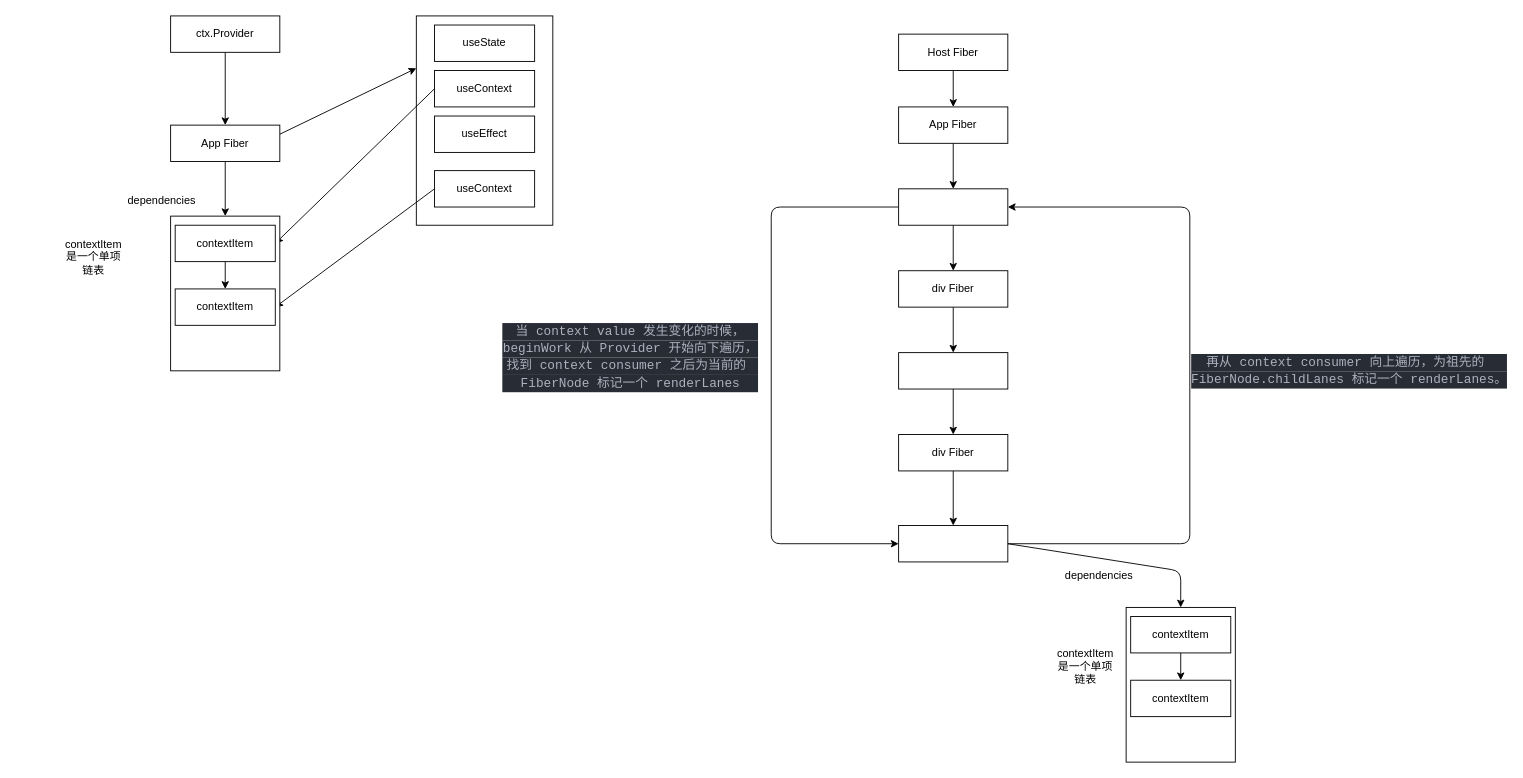
Image size: 1523x778. Some labels were removed from this diagram. Here are the shapes that lost their labels. From the top down, the box of each, then its label:
(898, 188, 1008, 225): Provider Fiber
(898, 352, 1008, 389): Cpn Fiber
(898, 525, 1008, 562): Child Fiber
